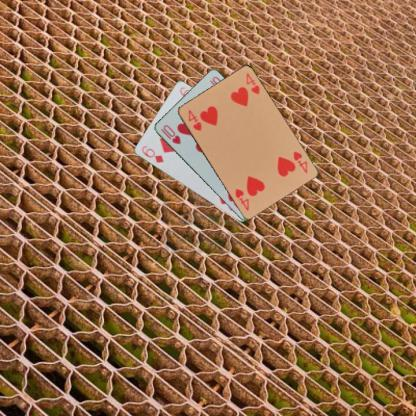10h: (158, 122, 182, 146)
4h: (290, 148, 309, 174), (185, 107, 203, 132)
6d: (138, 143, 164, 164)
